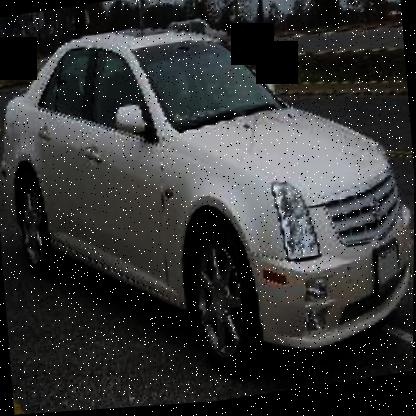not_emergency: (0, 0, 415, 403)
